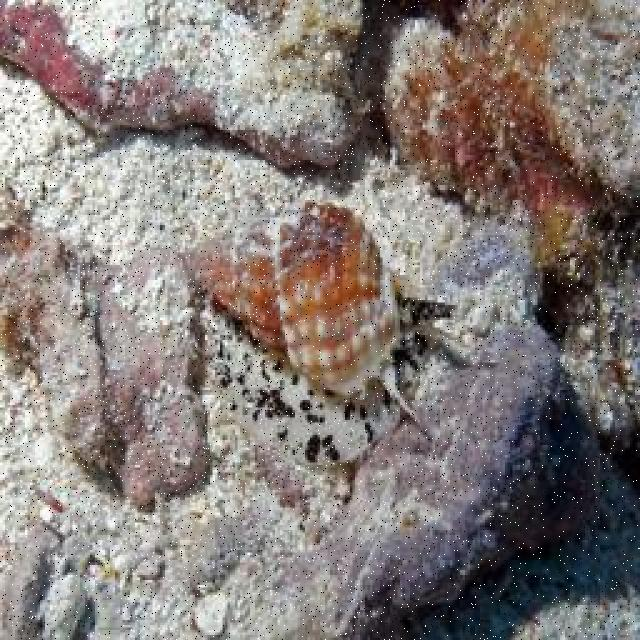reefs: (182, 201, 459, 472)
